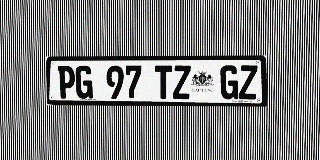7: (124, 66, 142, 99)
9: (106, 66, 124, 99)
G: (220, 65, 239, 99), (75, 66, 93, 99)
P: (58, 66, 75, 99)
T: (155, 65, 172, 99)
Z: (173, 65, 191, 99), (239, 65, 257, 99)
